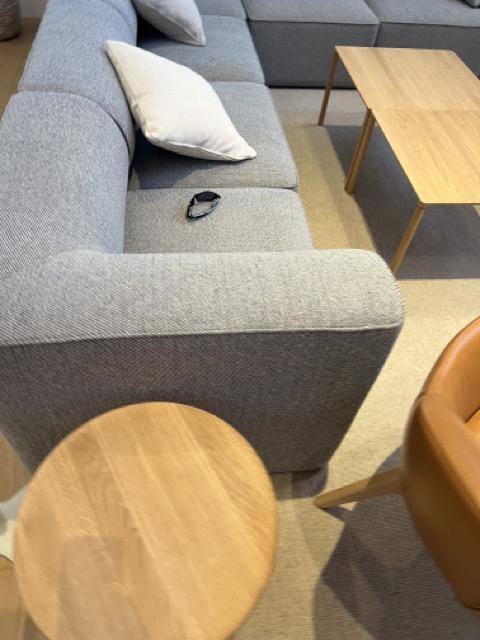Sunglasses: (186, 191, 222, 221)
